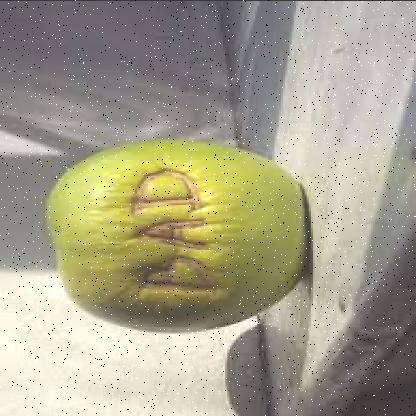damaged_apple: (49, 140, 304, 342)
